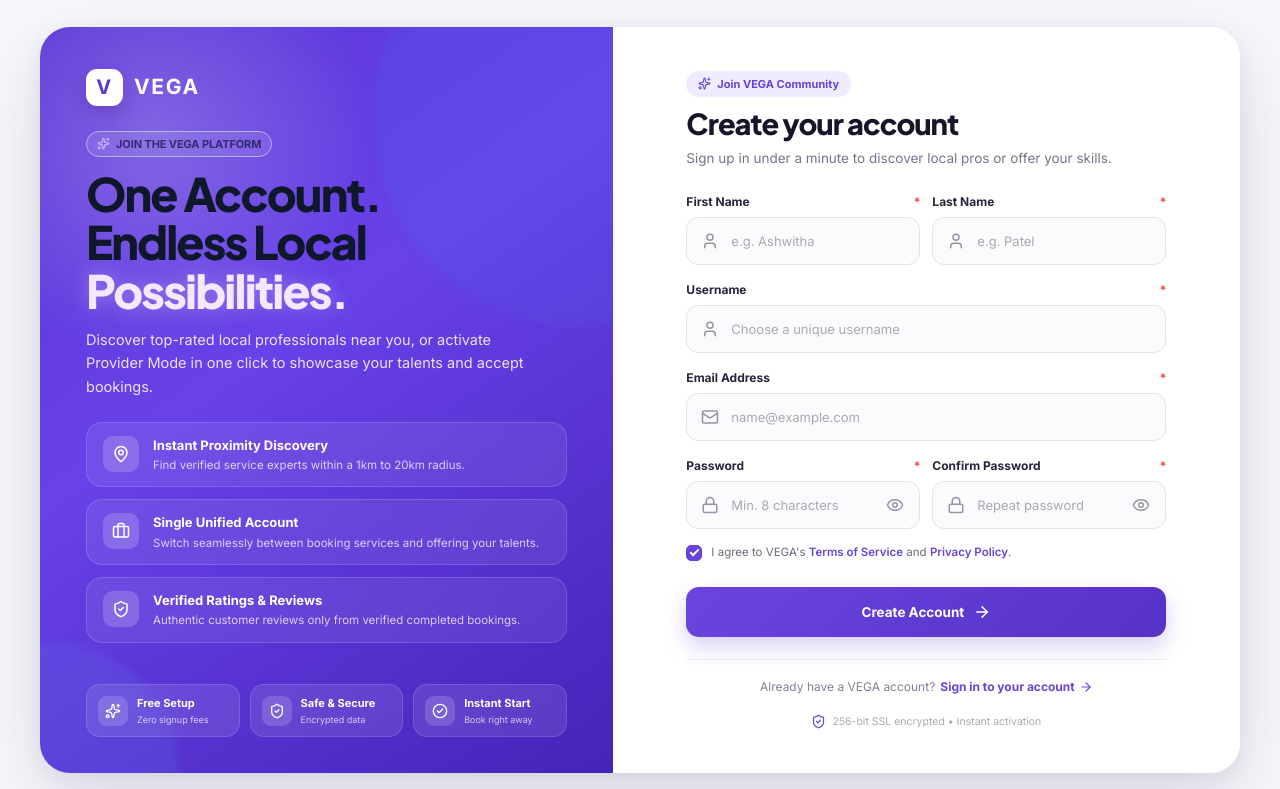
Scenario: VEGA Registration Page UI, Validation and Error Handling › displays existing email alert with direct sign in link when email is already registered
Type "Ashwitha" into the field with placeholder "e.g. Ashwitha" at (803, 241), box 686,217 -> 920,265
Type "Patel" into the field with placeholder "e.g. Patel" at (1049, 241), box 932,217 -> 1166,265
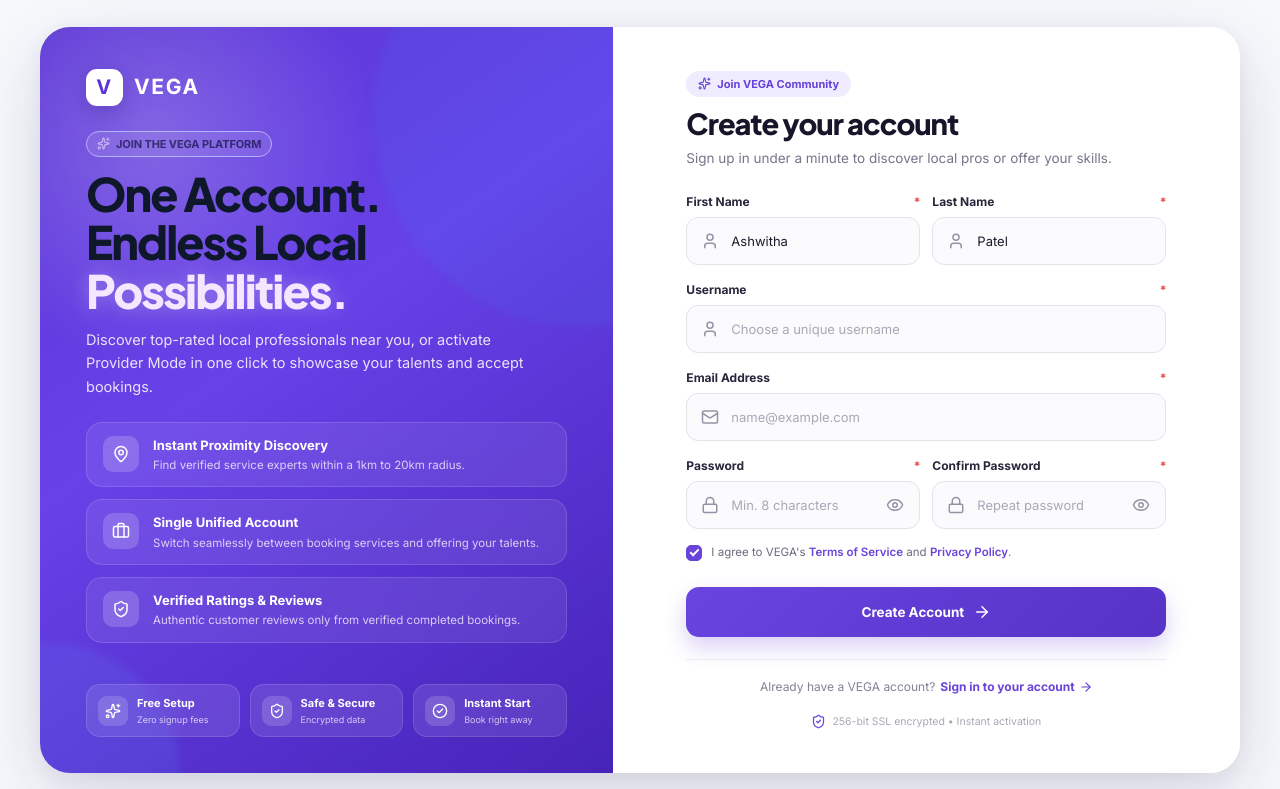
Type "ashupatel" into the field with placeholder "Choose a unique username" at (926, 329), box 686,305 -> 1166,353
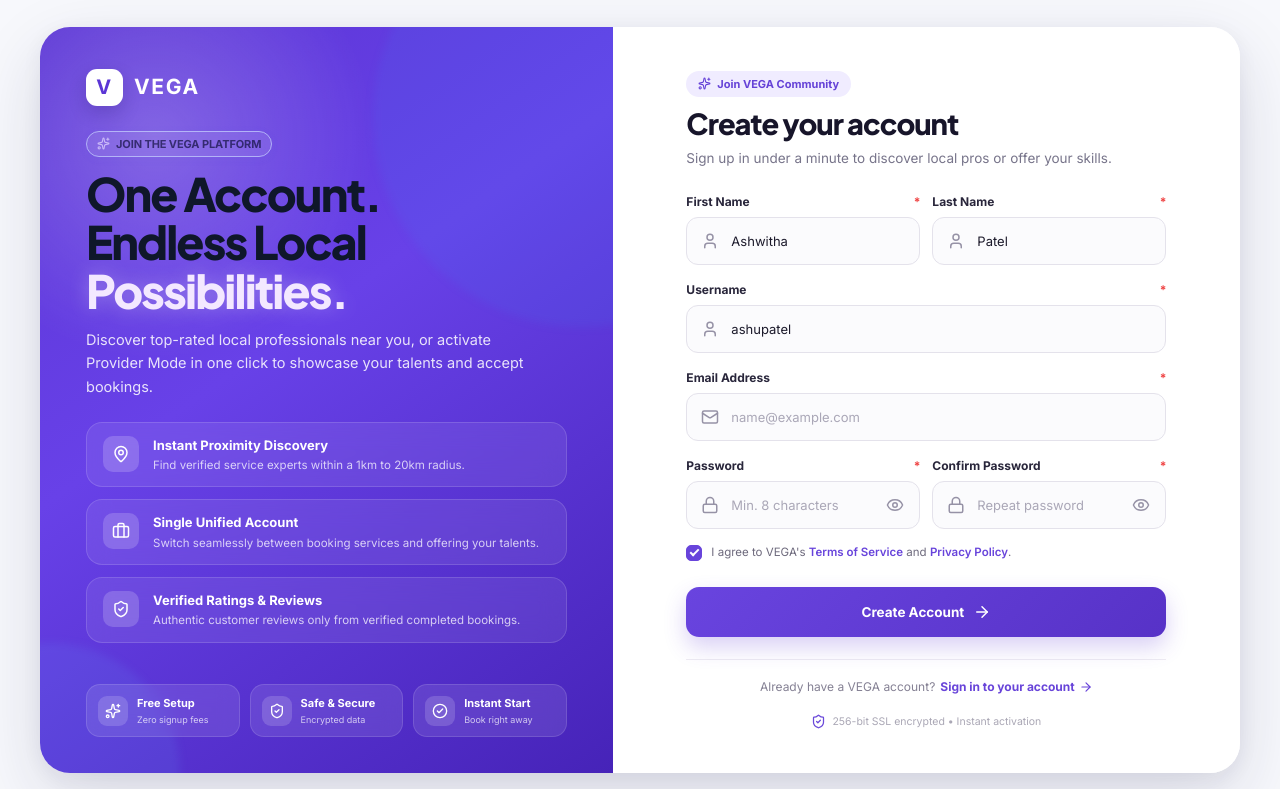
Type "existing@example.com" into the field with placeholder "name@example.com" at (926, 417), box 686,393 -> 1166,441
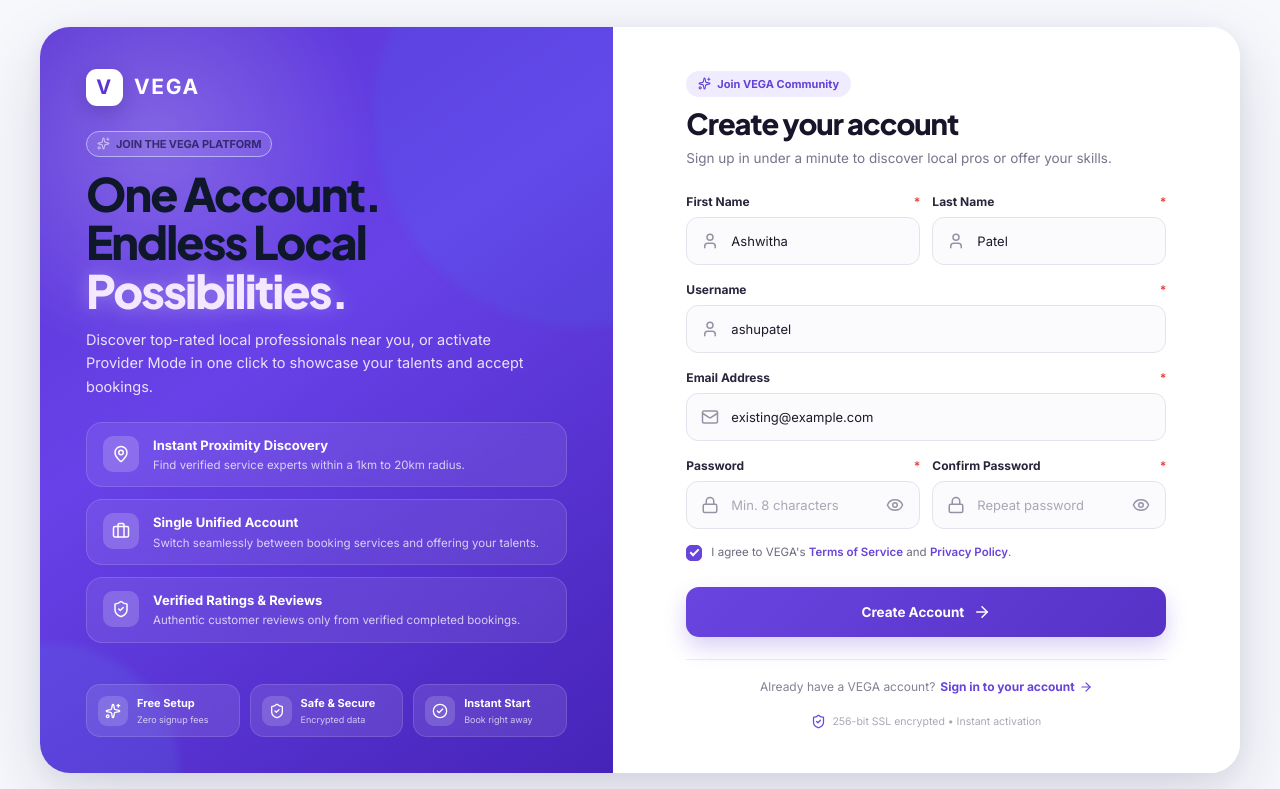
Type "Secret1234" into the password field with placeholder "Min. 8 characters" at (803, 505), box 686,481 -> 920,529
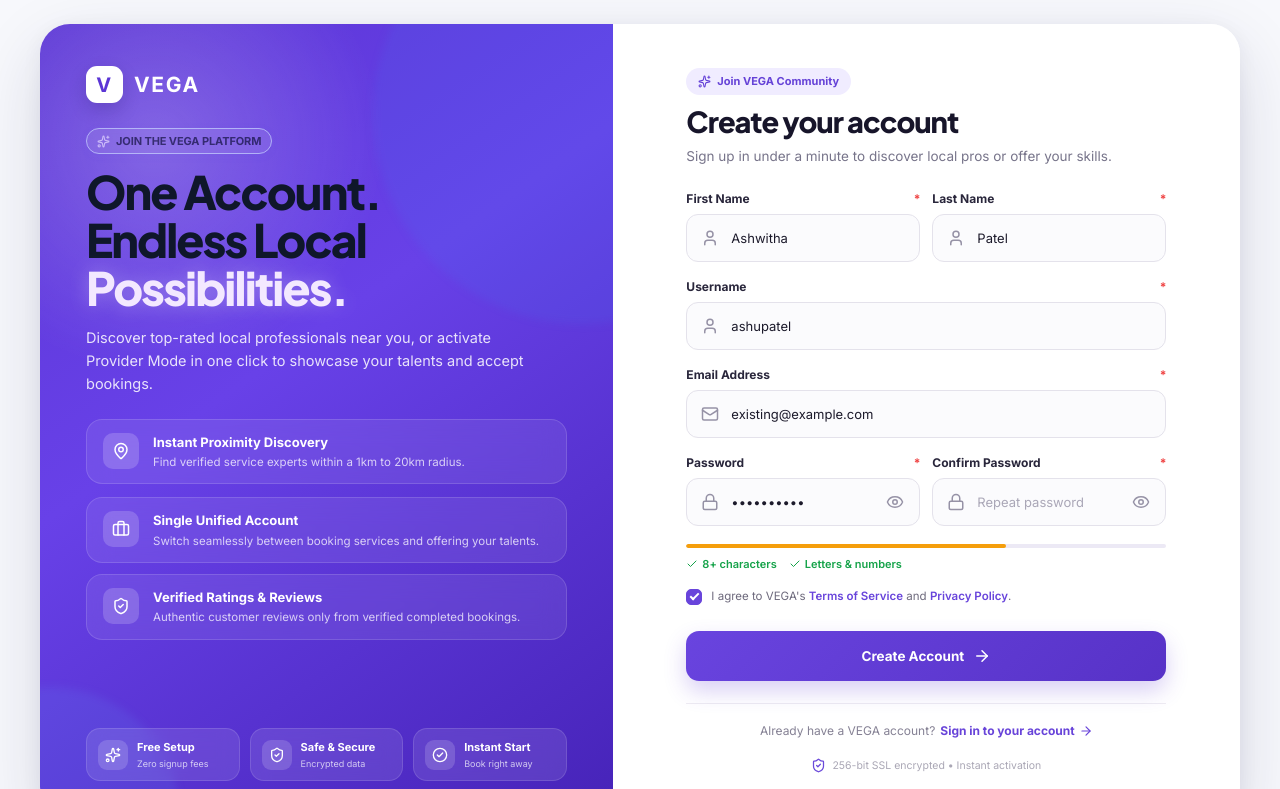
Type "Secret1234" into the password field with placeholder "Repeat password" at (1049, 502), box 932,478 -> 1166,526
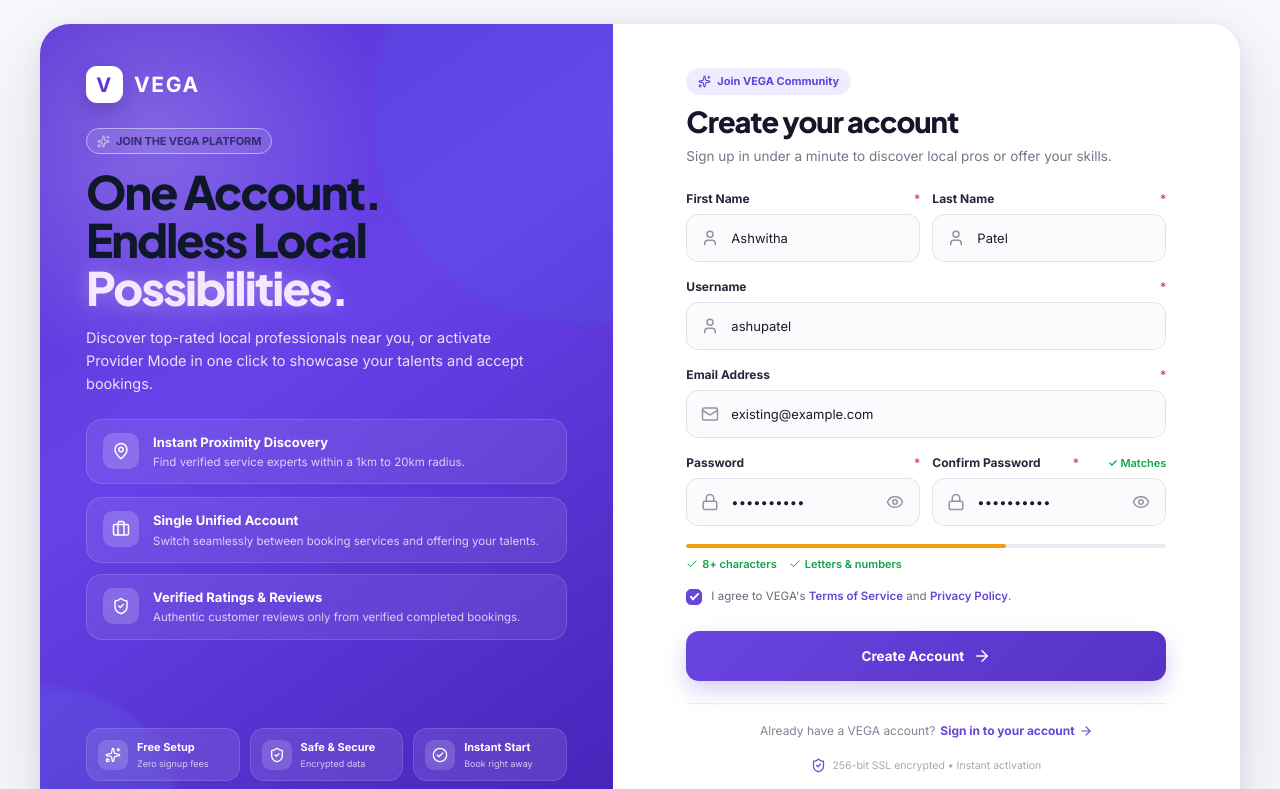
Click the button "Create Account" at (926, 656), box 686,631 -> 1166,681
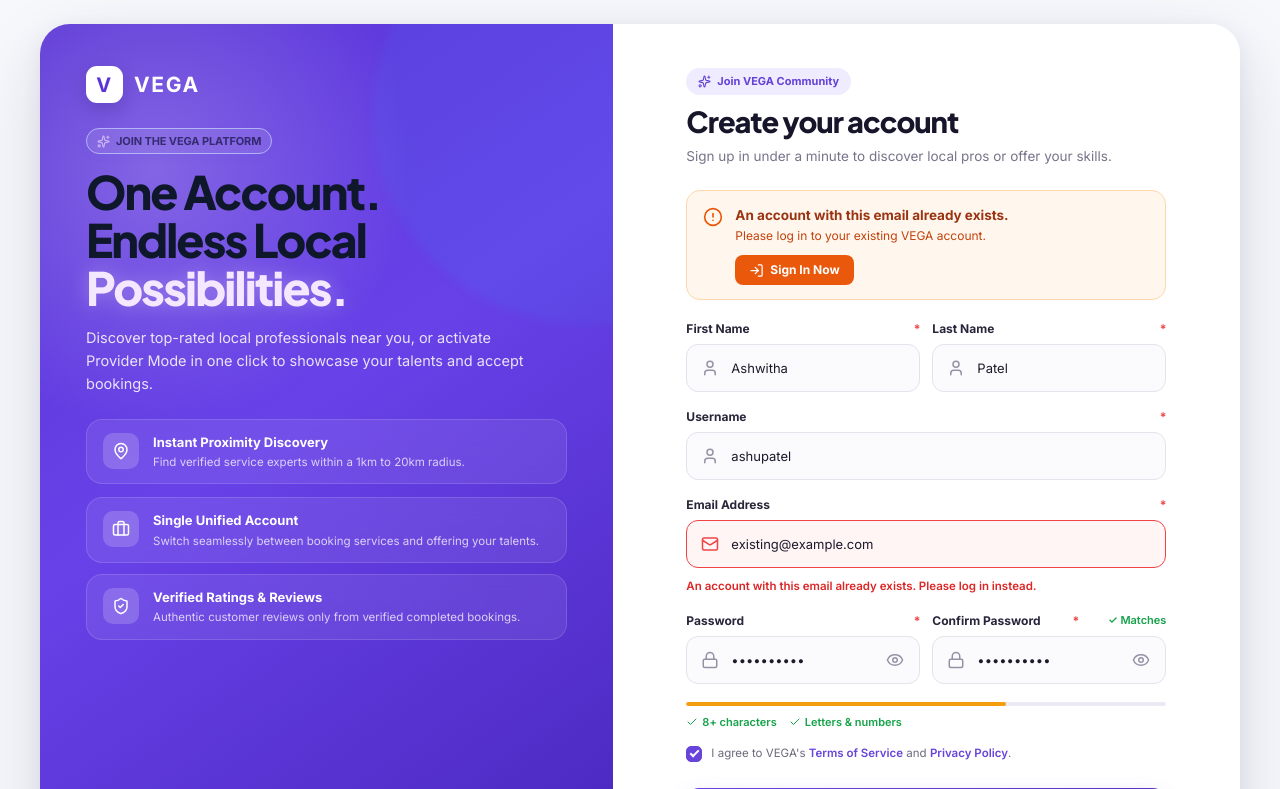
expect the link "Sign In Now" is shown: met, box 735,255 -> 854,285
